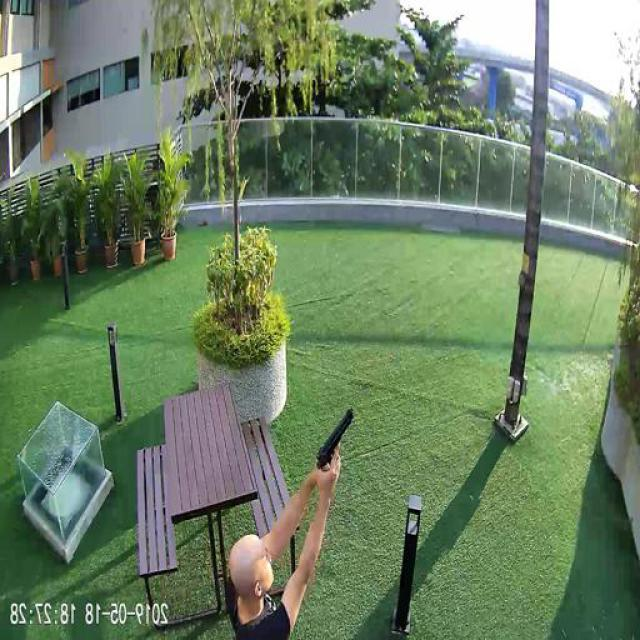Gun: (318, 406, 356, 490)
